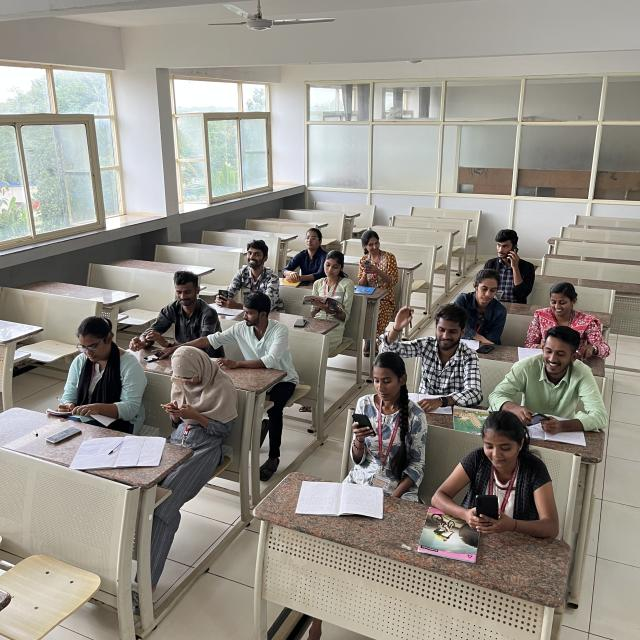Hand Rising: (379, 303, 481, 385)
Reading: (46, 315, 143, 421), (518, 277, 608, 354), (306, 249, 350, 313)
Using Phone: (435, 414, 560, 545), (343, 348, 428, 478), (160, 347, 239, 422), (216, 237, 279, 309), (484, 227, 540, 295), (353, 230, 397, 286)
